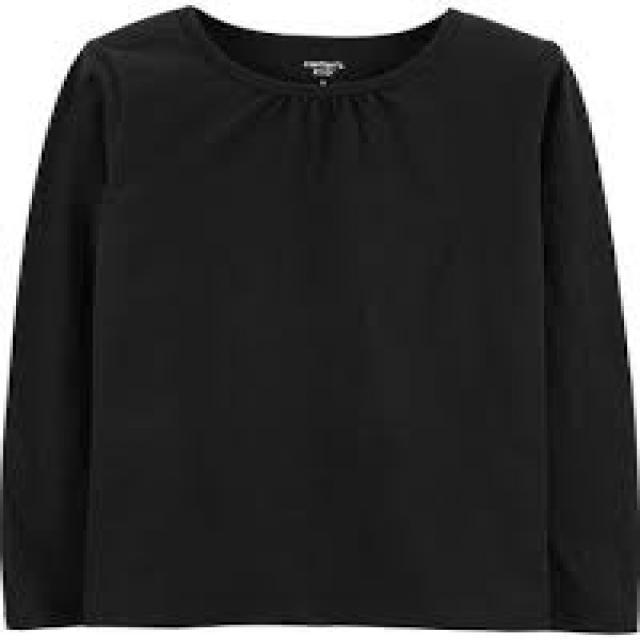plain: (7, 11, 640, 640)
